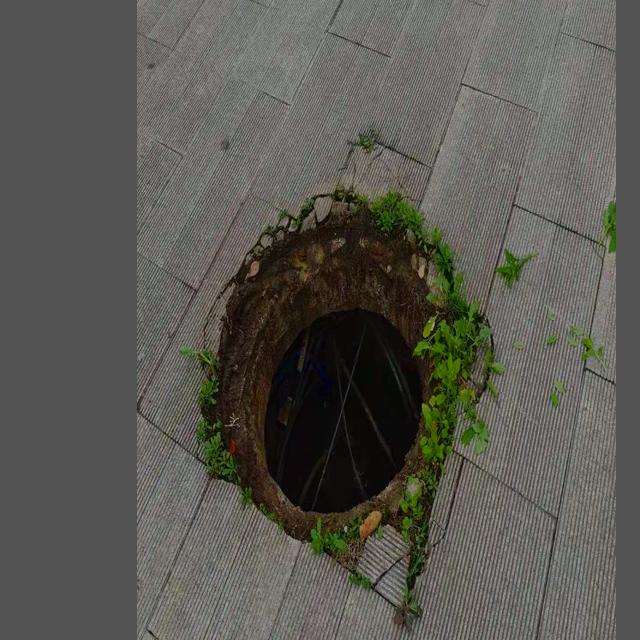lose: (224, 216, 456, 545)
